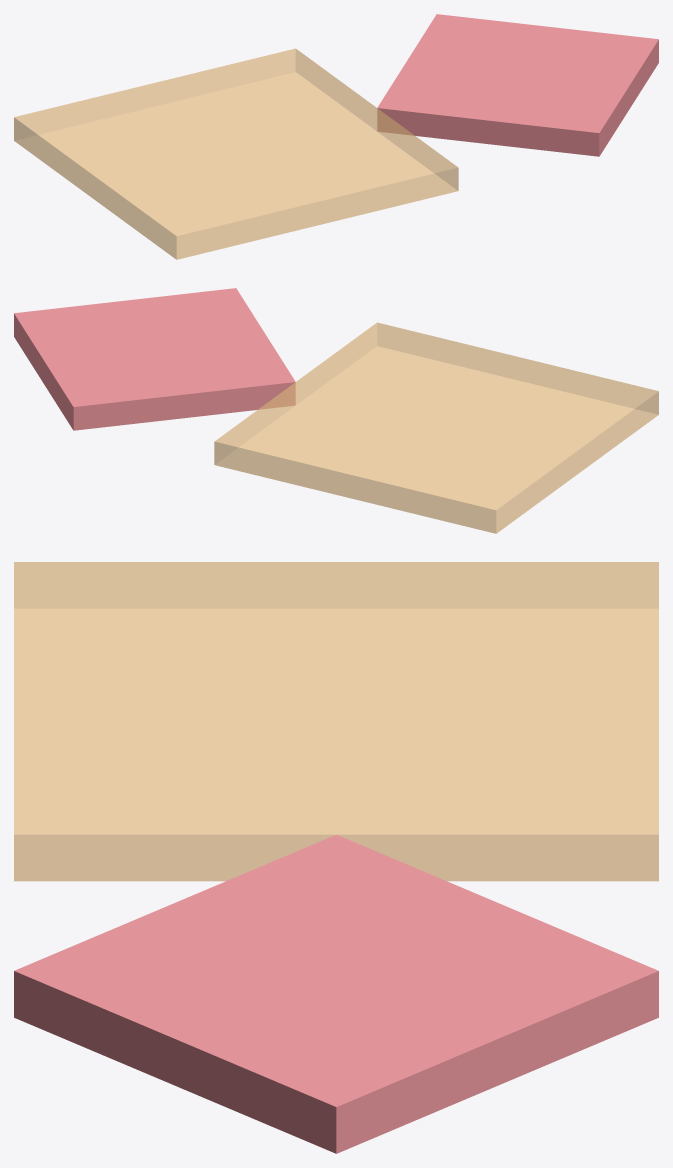
The model's file is pesce_step3.glb.
The picture shows the model from 3 angles, top to bottom: view 1: azimuth 30°, elevation 25°; view 2: azimuth 150°, elevation 25°; view 3: azimuth 270°, elevation 25°; orthographic projection. The views are drawn at different scales.
Parts seen in each view (by area): view 1: quadrato_piccolo, rombo; view 2: quadrato_piccolo, rombo; view 3: quadrato_piccolo, rombo.
Part boxes in pixels (left/top/right/bottom): quadrato_piccolo: left=14, top=48, right=458, bottom=259; rombo: left=377, top=14, right=658, bottom=156; quadrato_piccolo: left=214, top=322, right=658, bottom=533; rombo: left=14, top=288, right=295, bottom=430; quadrato_piccolo: left=14, top=562, right=658, bottom=881; rombo: left=14, top=834, right=658, bottom=1153.
Size of the model in its own units: 2 by 0.08 by 1.
